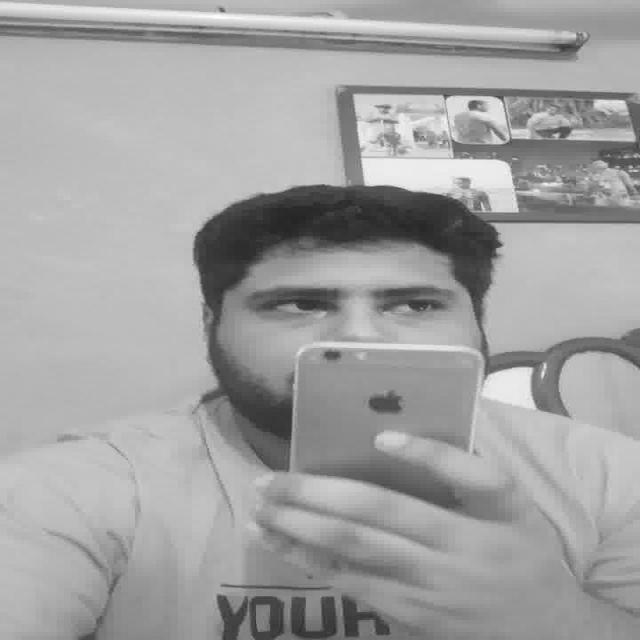fake: (290, 343, 488, 484)
